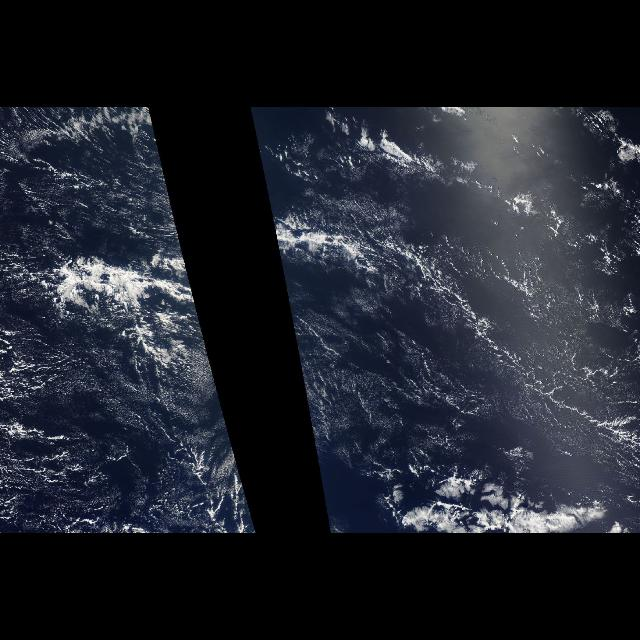Gravel: (283, 271, 639, 459)
Sugar: (270, 201, 632, 494), (1, 326, 182, 534), (1, 108, 185, 262)
